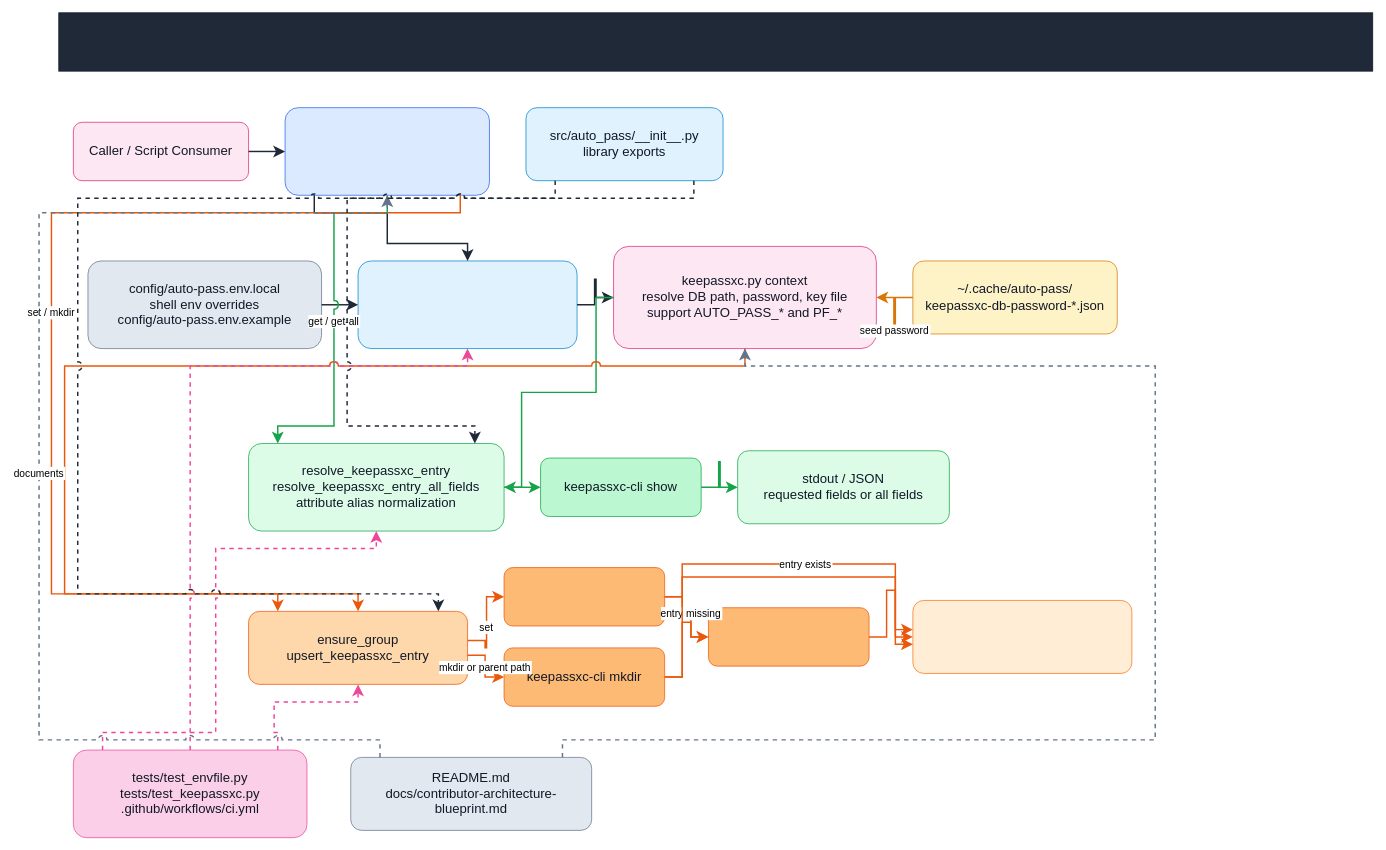
Some shapes in this 1386 by 850 pixel diagram are drawn without their labels. Each missing label, with the centre of its shape:
"auto-pass KeePassXC Automation Architecture" goes at point 715,41.
"auto-pass python -m auto_pass __main__.py -> cli.main" goes at point 386,151.
"envfile.py parse env text apply AUTO_PASS_PROFILE_*" goes at point 467,304.
"keepassxc-cli add" goes at point 788,636.
"keepassxc-cli edit" goes at point 584,596.
"stdout modes edit / add / created / exists" goes at point 1022,636.
